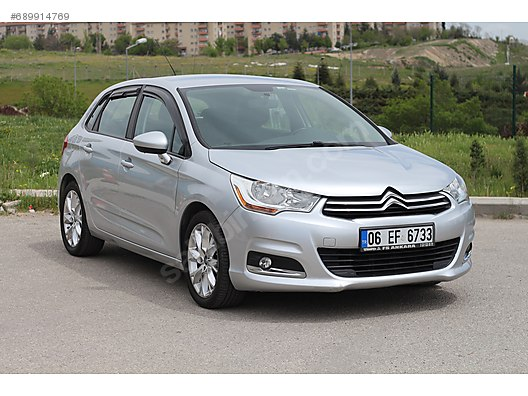citroen: (56, 67, 480, 314)
